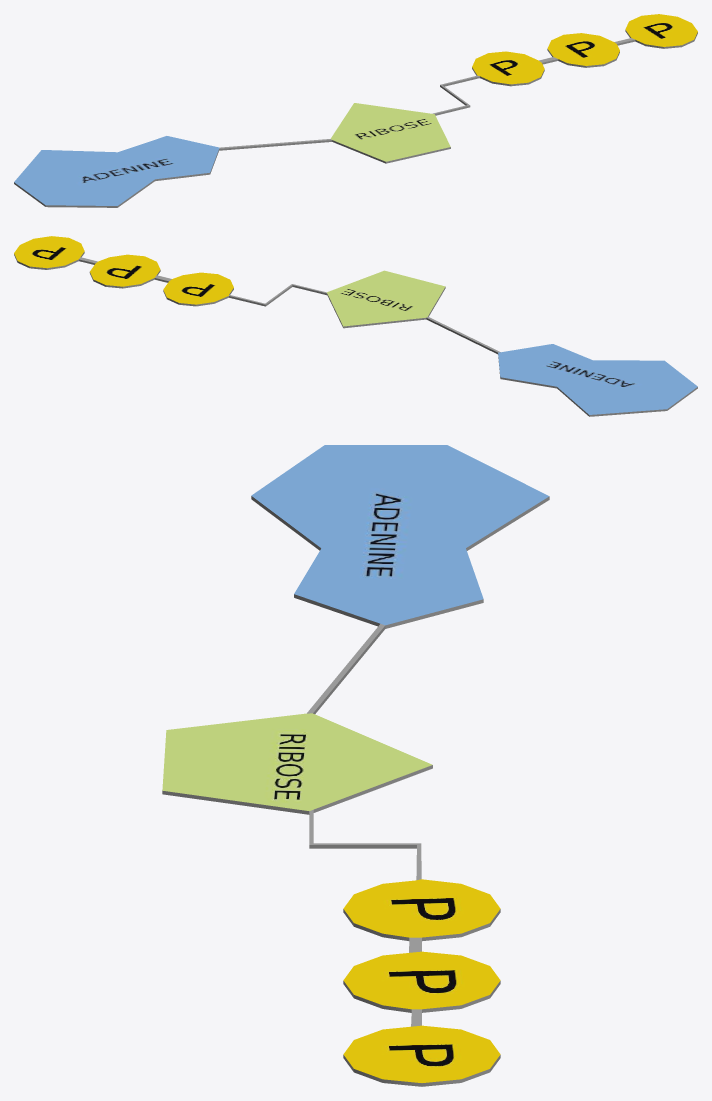
The model's file is ATP.fbx.
3 views of the same model, one above another, from view 1: azimuth 30°, elevation 25°; view 2: azimuth 150°, elevation 25°; view 3: azimuth 270°, elevation 25° (orthographic). The views are drawn at different scales.
Visible parts, largest first — view 1: ATP:pDisc8; view 2: ATP:pDisc8; view 3: ATP:pDisc8.
Part boxes in pixels (bbox=[...]): ATP:pDisc8: bbox=[14, 14, 697, 207]; ATP:pDisc8: bbox=[14, 236, 697, 416]; ATP:pDisc8: bbox=[162, 445, 549, 1086].
Size of the model in its own units: 525 by 1.55 by 135.
